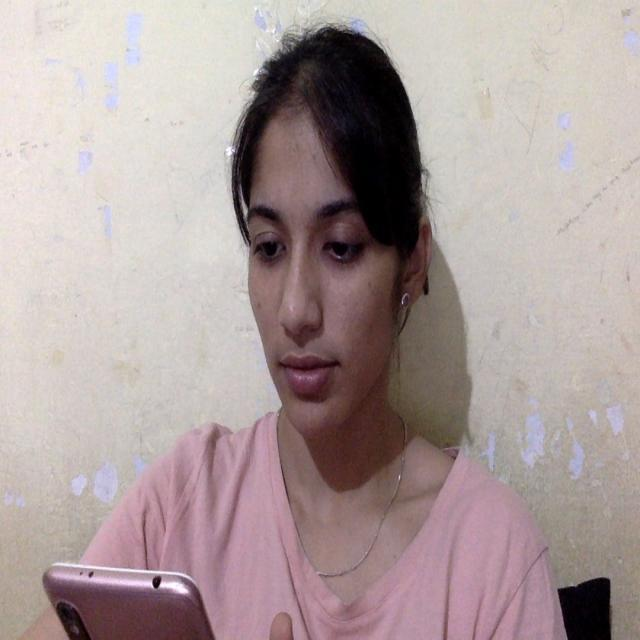Phone: (37, 556, 216, 640)
